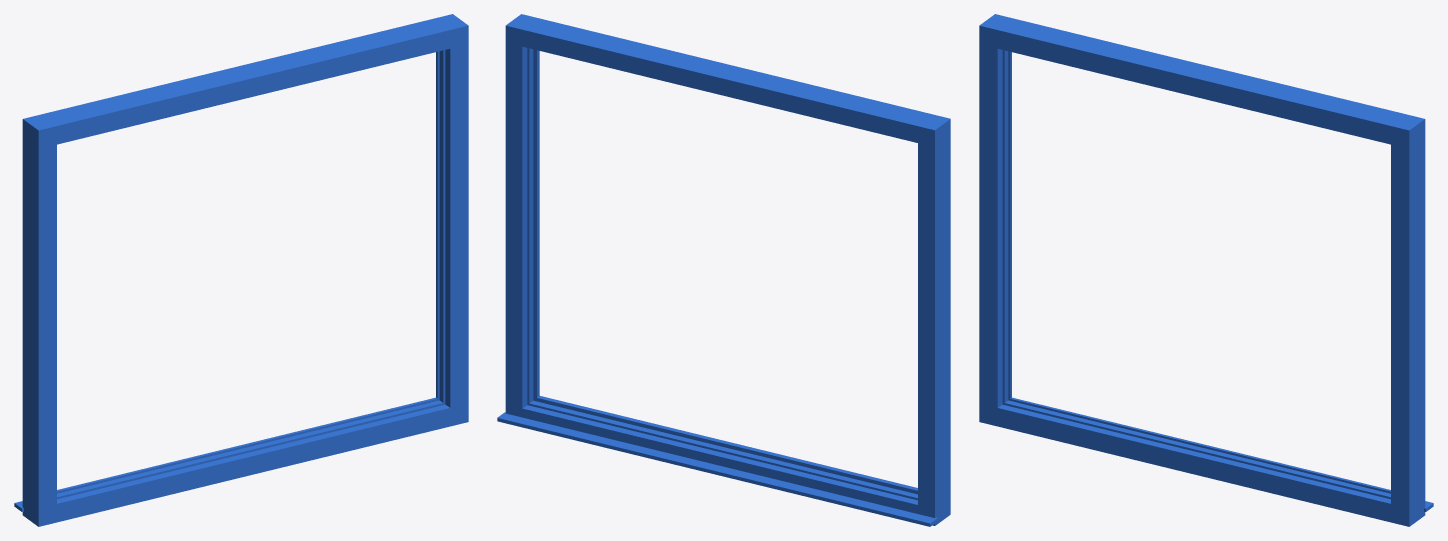
The model's file is Window.fbx.
3 views of the same model, side by side, from view 1: azimuth 30°, elevation 25°; view 2: azimuth 150°, elevation 25°; view 3: azimuth 330°, elevation 25° (orthographic).
Visible parts, largest first — view 1: Window; view 2: Window; view 3: Window.
Boxes of the visible parts, left/top/right/bottom form: Window: left=14, top=14, right=468, bottom=526; Window: left=497, top=14, right=950, bottom=526; Window: left=979, top=14, right=1433, bottom=526.
Size of the model in its own units: 260 by 227 by 23.3.
